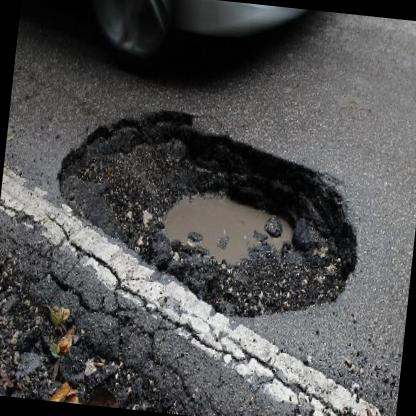pothole: (41, 94, 371, 332)
